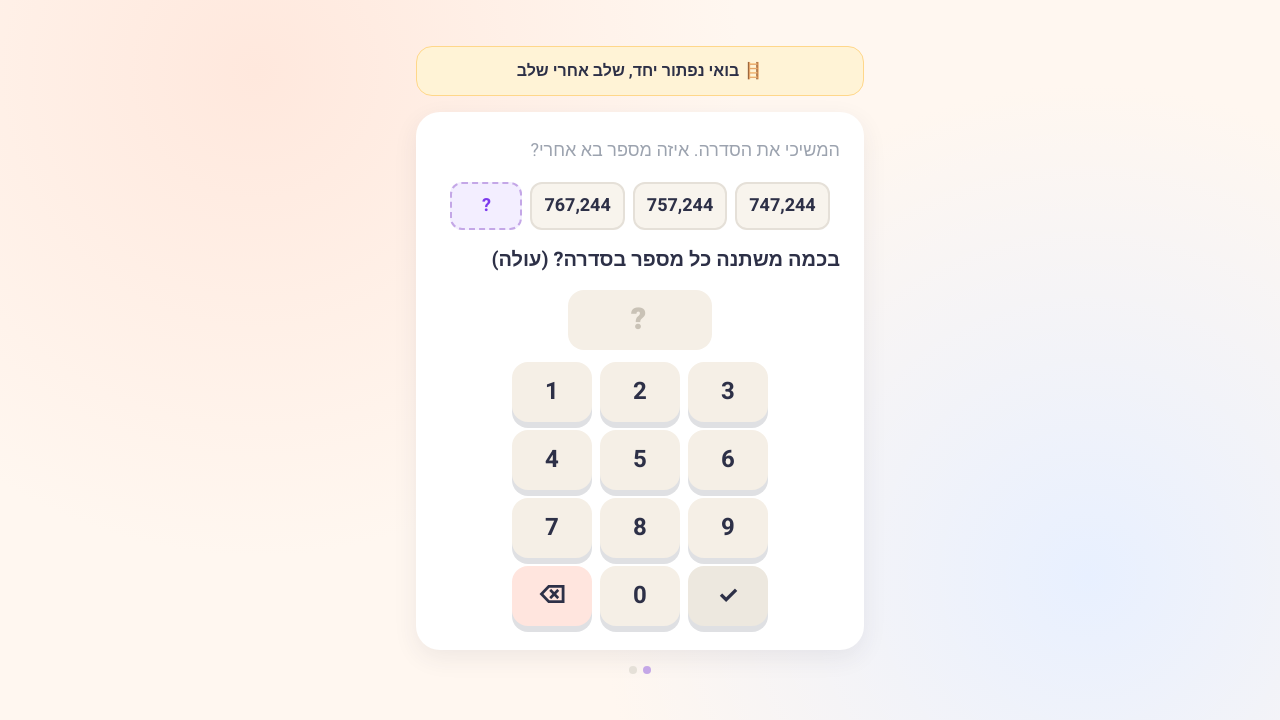
Test: step ladder › writes the correct answer with thousands separators
Note: Answer the first rung wrongly, which reveals the correct value.
Click the button "1". click: (552, 392)
box: x1=512 y1=362 x2=592 y2=422
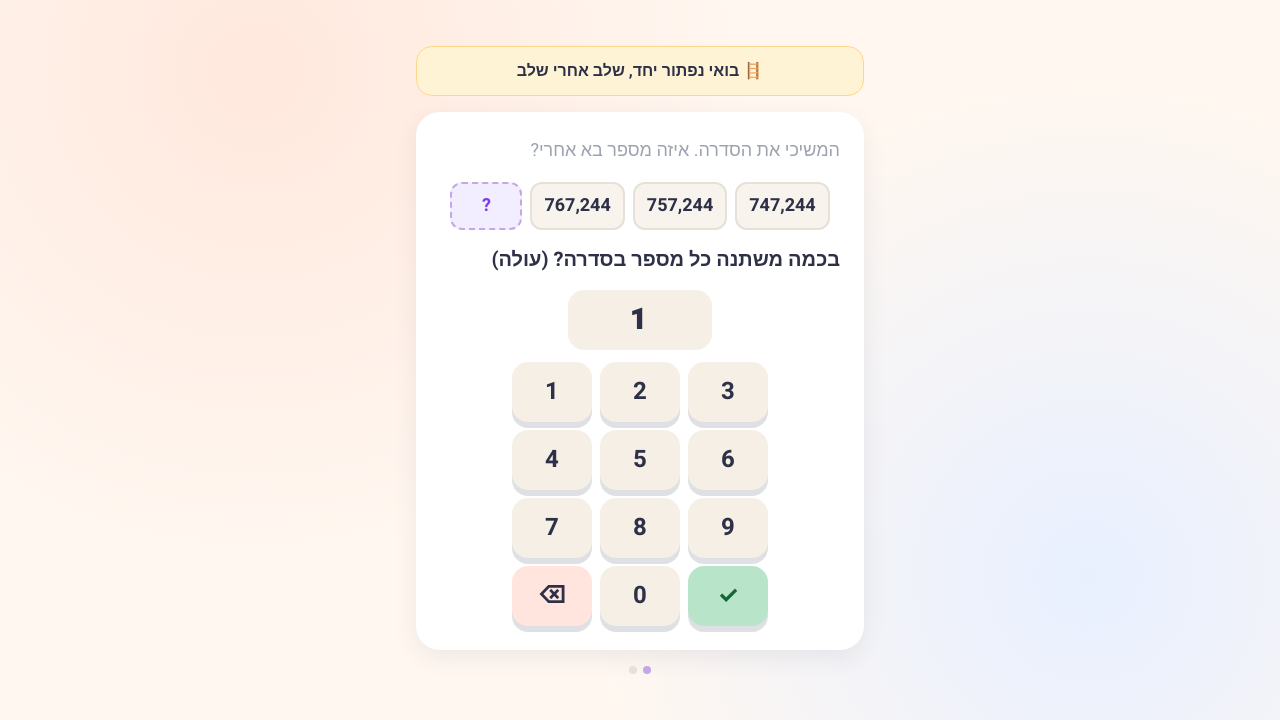
Click the button "✓". click: (728, 596)
box: x1=688 y1=566 x2=768 y2=626
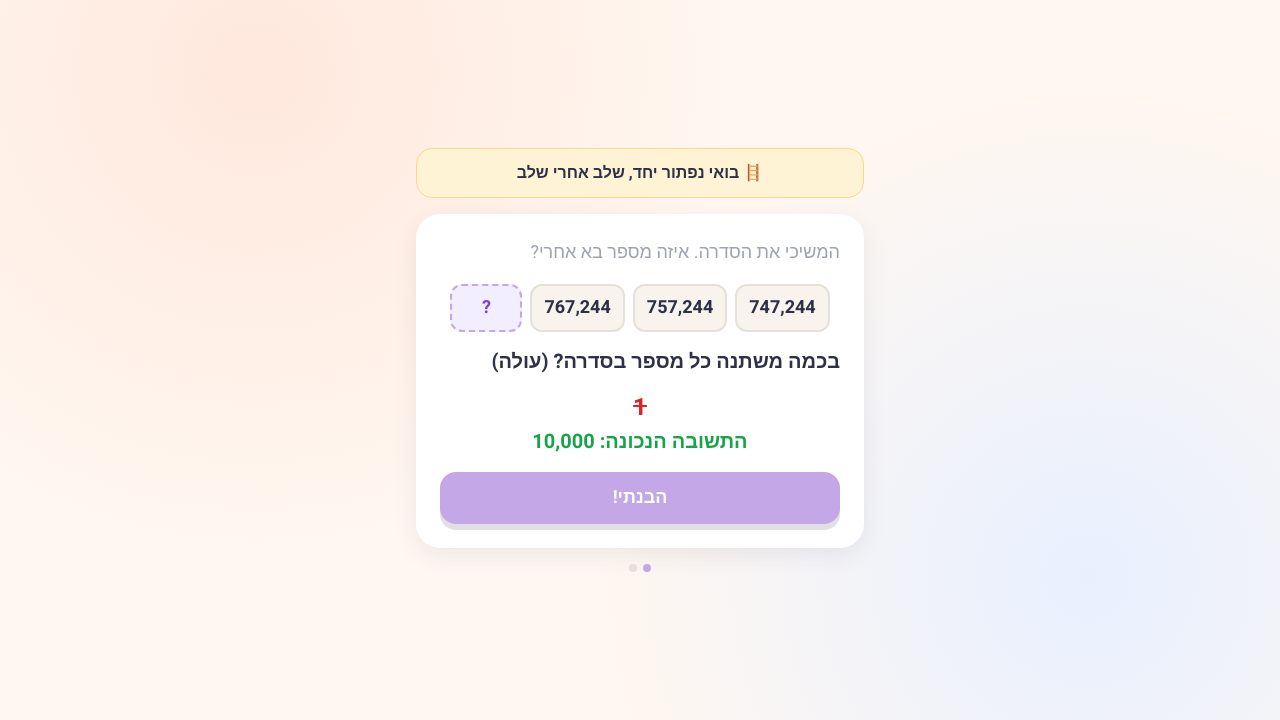
Now the text "10,000" is shown, box x1=532 y1=427 x2=748 y2=456
